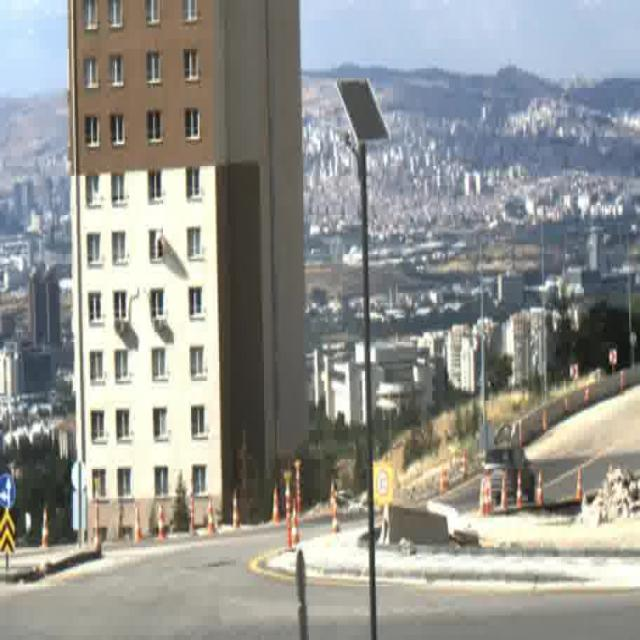Car: (485, 446, 534, 503)
